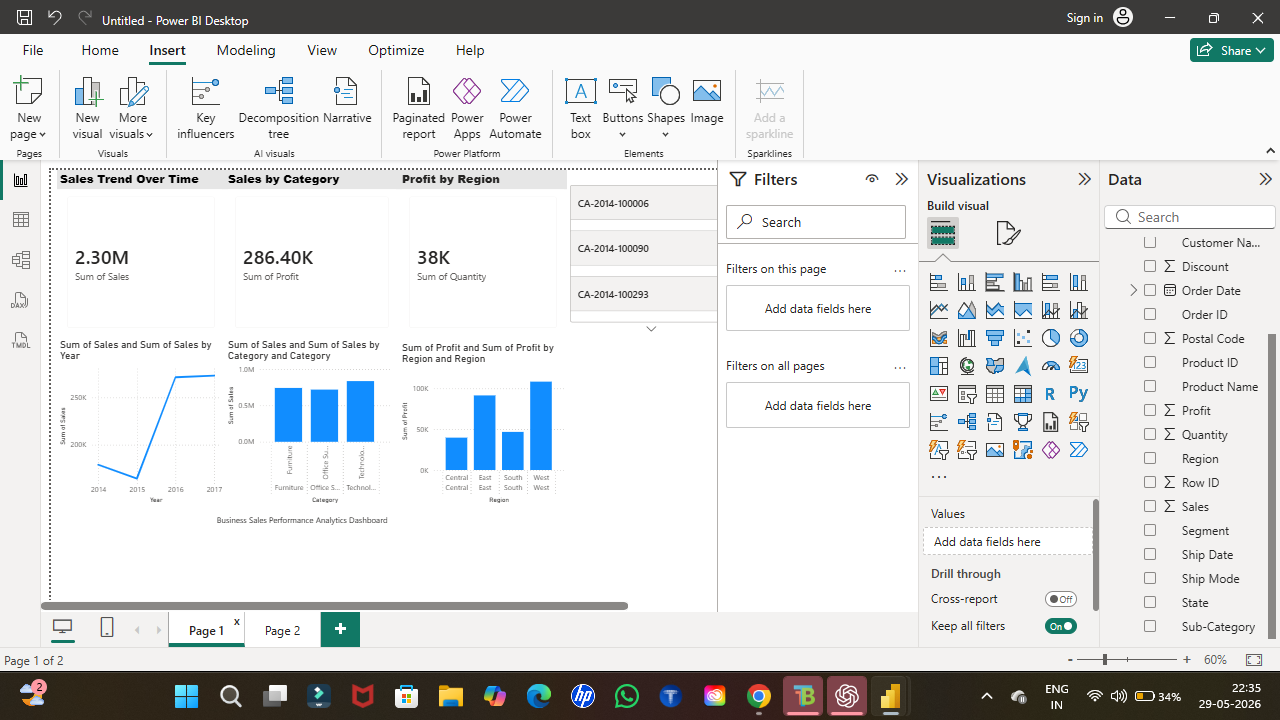

The page's visual inventory and layout, read from the dashboard file:
{"tool":"powerbi","page":{"name":"Page 1","canvas":[1280,720],"ordinal":0},"visuals":[{"type":"cardVisual","title":"Sales Trend Over Time","fields":{"Data":["Sum(project Analysis 1.Sales)"]},"box":[10,0,280,280],"z":0},{"type":"cardVisual","title":"Sales by Category","fields":{"Data":["Sum(project Analysis 1.Profit)"]},"box":[290,0,290,280],"z":1000},{"type":"cardVisual","title":"Profit by Region","fields":{"Data":["Sum(project Analysis 1.Quantity)"]},"box":[580,0,280,280],"z":2000},{"type":"cardVisual","fields":{"Rows":["project Analysis 1.Order ID"]},"box":[860,0,280,280],"z":2001},{"type":"lineChart","fields":{"Category":["project Analysis 1.Order Date.Variation.Date Hierarchy.Year","project Analysis 1.Order Date.Variation.Date Hierarchy.Quarter","project Analysis 1.Order Date.Variation.Date Hierarchy.Month","project Analysis 1.Order Date.Variation.Date Hierarchy.Day"],"Y":["Sum(project Analysis 1.Sales)","Sum(project Analysis 1.Sales)"]},"box":[10,280,280,280],"z":2002},{"type":"lineClusteredColumnComboChart","fields":{"Category":["project Analysis 1.Category","project Analysis 1.Category"],"Y":["Sum(project Analysis 1.Sales)","Sum(project Analysis 1.Sales)"]},"box":[290,280,280,280],"z":2003},{"type":"lineClusteredColumnComboChart","fields":{"Category":["project Analysis 1.Region","project Analysis 1.Region"],"Y":["Sum(project Analysis 1.Profit)","Sum(project Analysis 1.Profit)"]},"box":[580,285,280,275],"z":2004},{"type":"textbox","box":[10,570,817.5,150],"z":2005}]}

Visuals, with their boxes on the page's 1280x720 design canvas (x1, y1, x2, y2). These are canvas units, not pixel positions in the 1280x720 screenshot, which may show the page scaled, cropped or inside an application window:
"Sales Trend Over Time" cardVisual: left=10, top=0, right=290, bottom=280
"Sales by Category" cardVisual: left=290, top=0, right=580, bottom=280
"Profit by Region" cardVisual: left=580, top=0, right=860, bottom=280
cardVisual - project Analysis 1.Order ID: left=860, top=0, right=1140, bottom=280
lineChart - project Analysis 1.Order Date.Variation.Date Hierarchy.Year x project Analysis 1.Order Date.Variation.Date Hierarchy.Quarter: left=10, top=280, right=290, bottom=560
lineClusteredColumnComboChart - project Analysis 1.Category x project Analysis 1.Category: left=290, top=280, right=570, bottom=560
lineClusteredColumnComboChart - project Analysis 1.Region x project Analysis 1.Region: left=580, top=285, right=860, bottom=560
textbox: left=10, top=570, right=828, bottom=720
